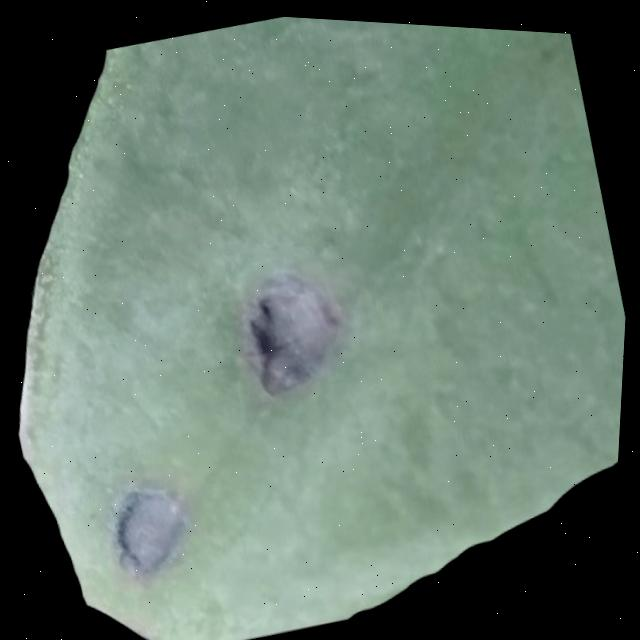mite: (65, 252, 392, 582), (79, 450, 236, 603), (245, 291, 287, 353), (256, 292, 277, 319)
sunburn: (0, 13, 629, 640), (230, 255, 362, 402), (103, 472, 206, 585)
